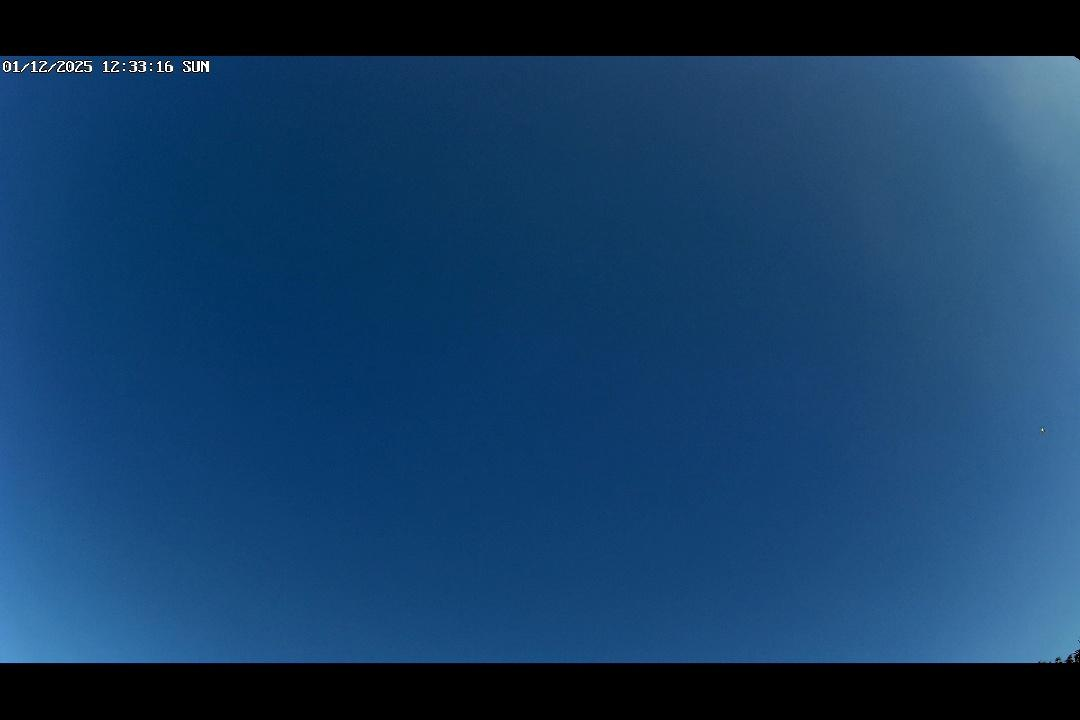WildLife: (1030, 421, 1054, 437)
